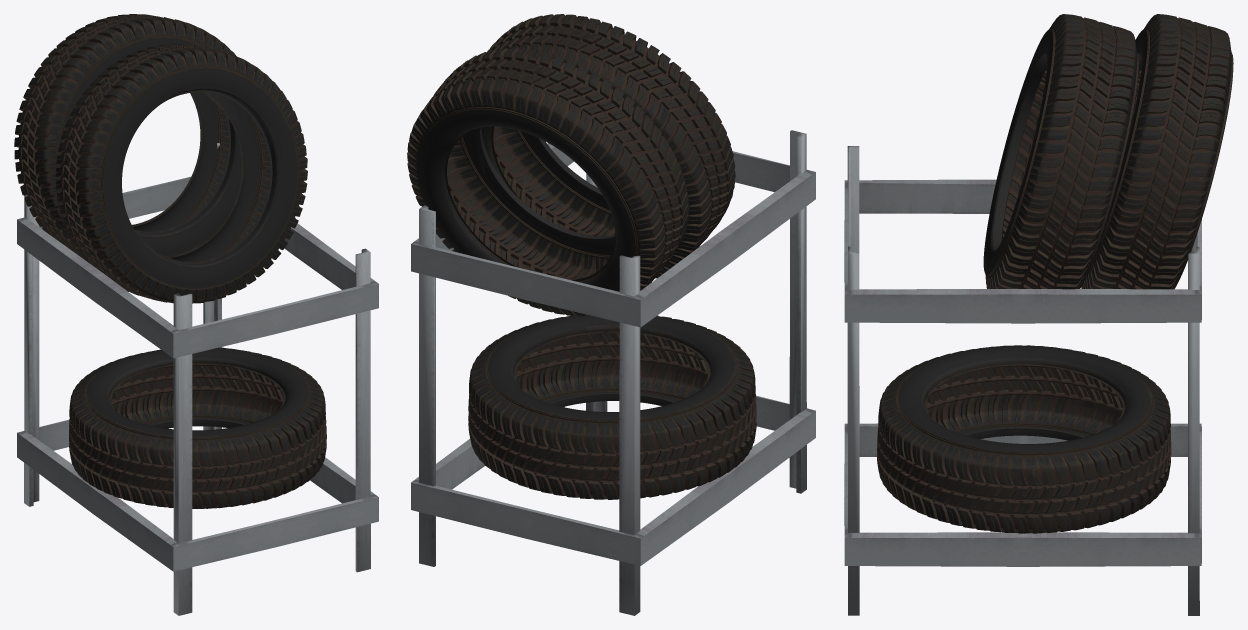
File: tyre-rack.glb
The picture shows the model from 3 angles, left to right: view 1: azimuth 30°, elevation 25°; view 2: azimuth 150°, elevation 25°; view 3: azimuth 270°, elevation 25°; orthographic projection. The views are drawn at different scales.
Visible parts, largest first — view 1: mp.001, mp.002, TireRack_low.005, mp.004, TireRack_low.008; view 2: mp.004, mp.002, TireRack_low.005, mp.001, TireRack_low.008; view 3: mp.002, TireRack_low.005, mp.001, mp.004, TireRack_low.008.
Part boxes in pixels (x1=…): mp.001: x1=55, y1=44, x2=307, y2=303; mp.002: x1=69, y1=347, x2=326, y2=508; TireRack_low.005: x1=17, y1=176, x2=378, y2=571; mp.004: x1=14, y1=14, x2=252, y2=258; TireRack_low.008: x1=24, y1=143, x2=370, y2=615; mp.004: x1=407, y1=48, x2=689, y2=316; mp.002: x1=468, y1=315, x2=756, y2=499; TireRack_low.005: x1=411, y1=143, x2=815, y2=565; mp.001: x1=468, y1=14, x2=735, y2=278; TireRack_low.008: x1=419, y1=130, x2=806, y2=615; mp.002: x1=877, y1=345, x2=1171, y2=533; TireRack_low.005: x1=844, y1=179, x2=1201, y2=566; mp.001: x1=983, y1=14, x2=1138, y2=289; mp.004: x1=1081, y1=14, x2=1233, y2=289; TireRack_low.008: x1=847, y1=146, x2=1199, y2=615.
Size of the model in its own units: 0.7391 by 1.48 by 0.9774.
2 materials, 2 textured.
